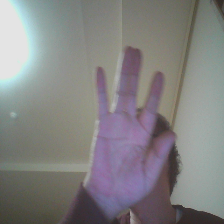hand: (86, 46, 178, 213)
